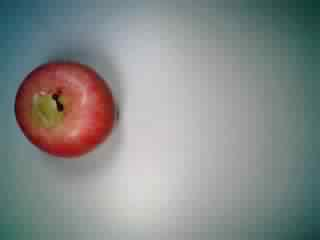apple: (13, 60, 116, 161)
